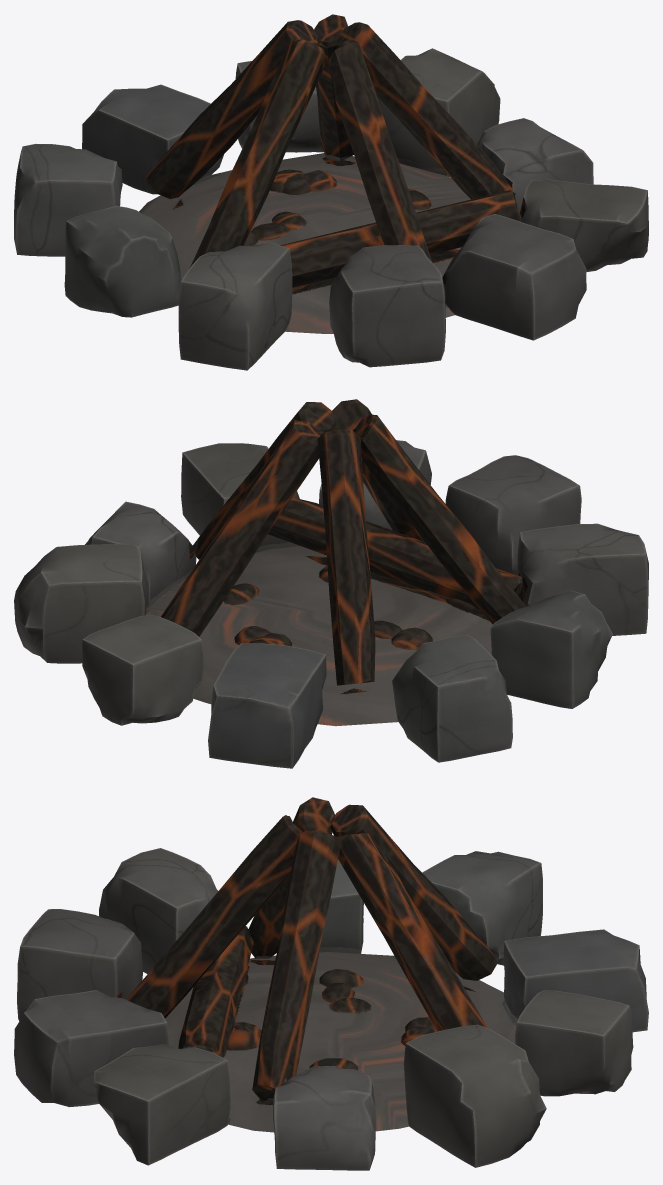
File: campfire.glb
The picture shows the model from 3 angles, top to bottom: view 1: azimuth 30°, elevation 25°; view 2: azimuth 150°, elevation 25°; view 3: azimuth 270°, elevation 25°; orthographic projection. The views are drawn at different scales.
Visible parts, largest first — view 1: campfire; view 2: campfire; view 3: campfire.
Part boxes in pixels (box(x1,y1,x2,y2)): campfire: box(14, 14, 648, 370); campfire: box(14, 399, 648, 768); campfire: box(14, 797, 648, 1170).
Size of the model in its own units: 0.7478 by 0.3139 by 0.7855.
Materials: 1 (1 with a texture image).
